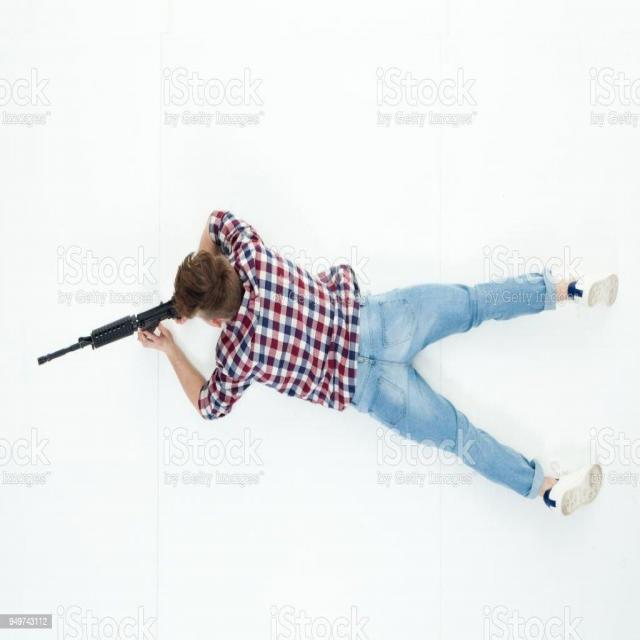gun: (37, 299, 174, 369)
